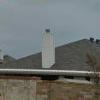Chimney: (33, 20, 66, 69)
